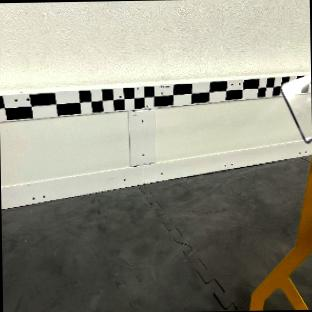Goal: (250, 159, 312, 310)
